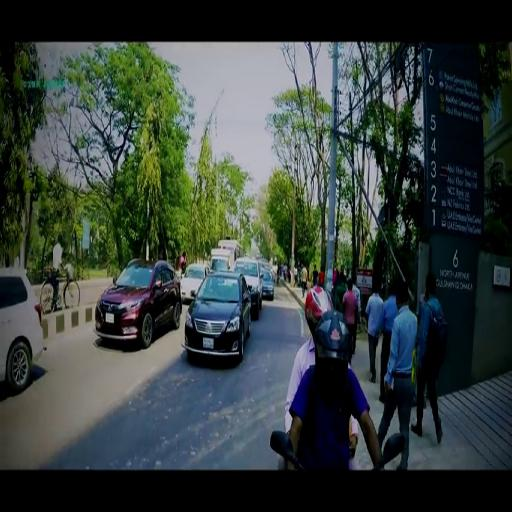bicycle: (40, 269, 81, 315)
bus: (217, 239, 245, 257)
car: (94, 258, 183, 342), (184, 270, 251, 358), (1, 267, 47, 384), (180, 262, 210, 299), (263, 267, 276, 299)
pickup: (233, 257, 264, 319), (210, 247, 234, 272)
